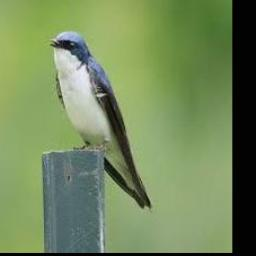Swallow: (47, 31, 152, 209)
